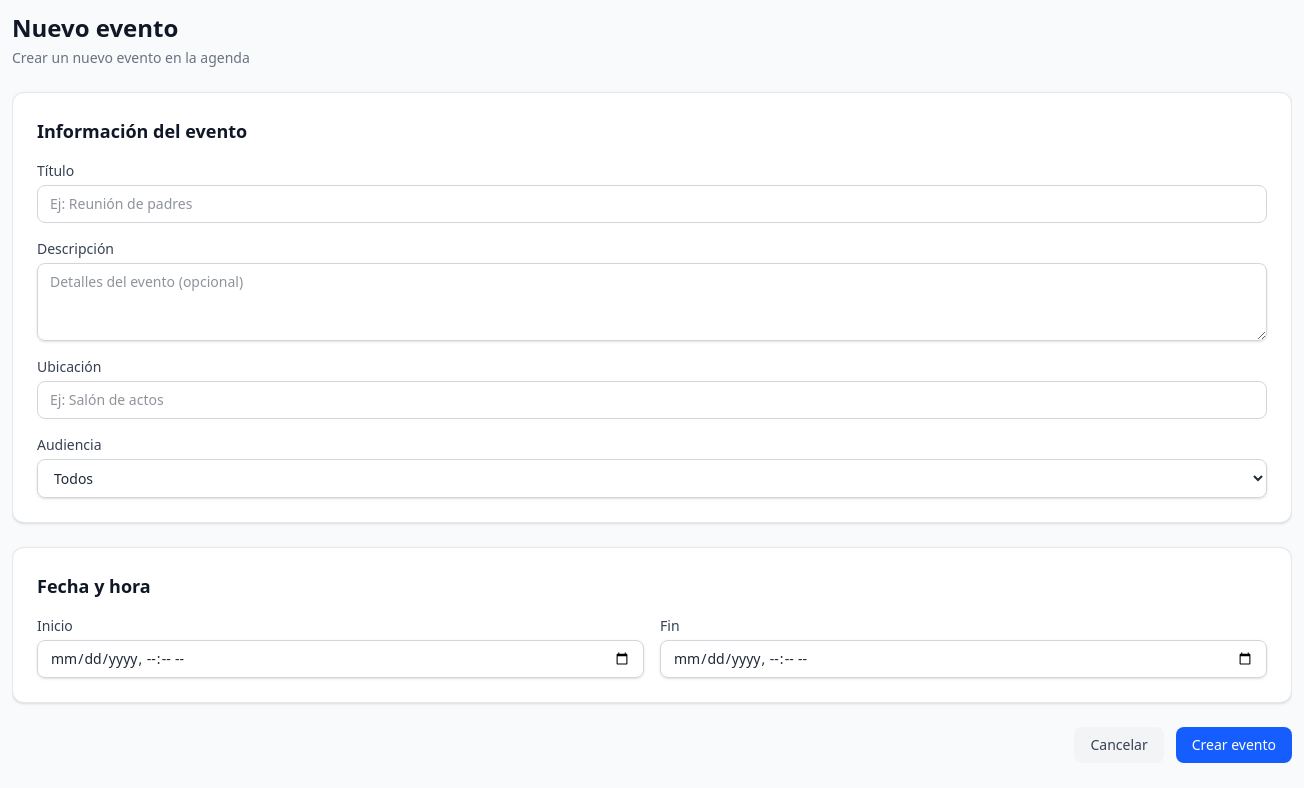
AgendaEventFormPage › validates required title
This screenshot has width=1304, height=788.
Click the button "Crear evento" at (1234, 745), box [1176, 727, 1292, 763]
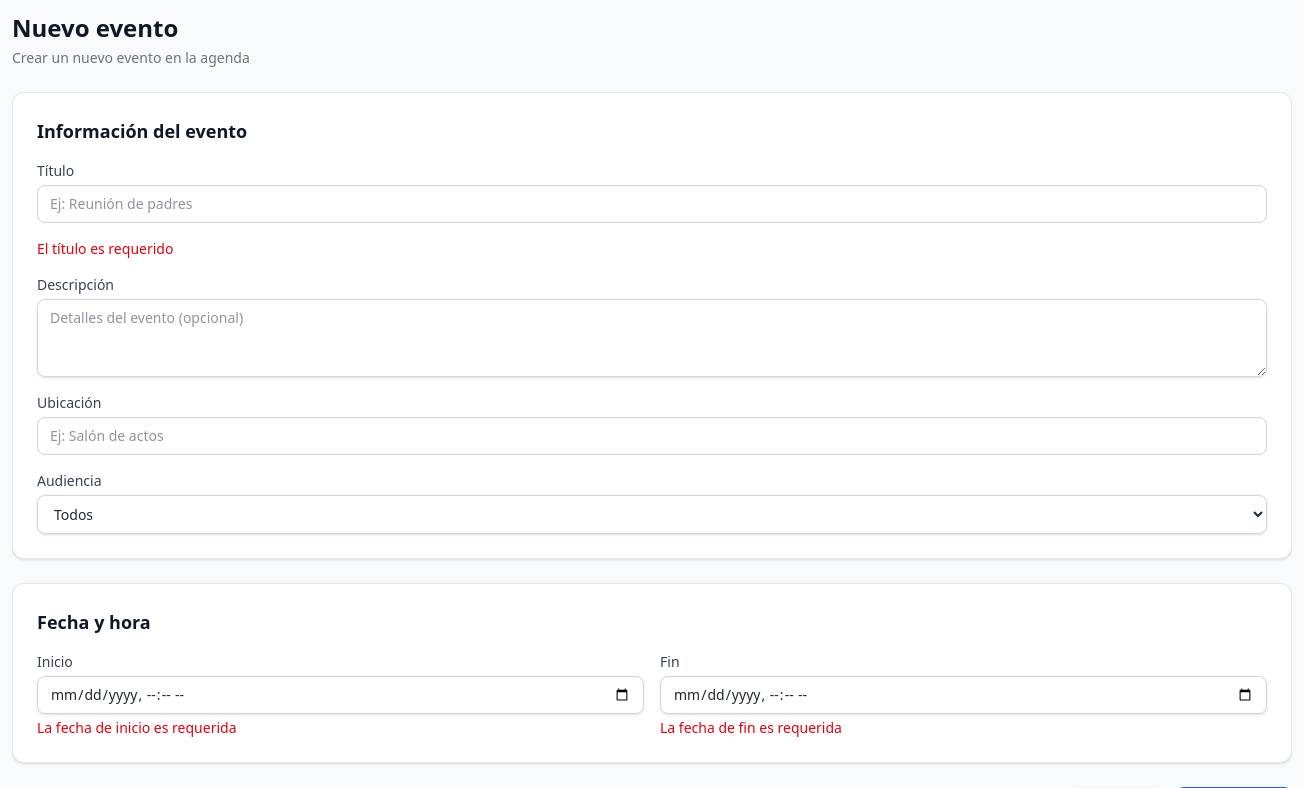
Expected: the text "El título es requerido" is shown, [37, 239, 173, 258]
